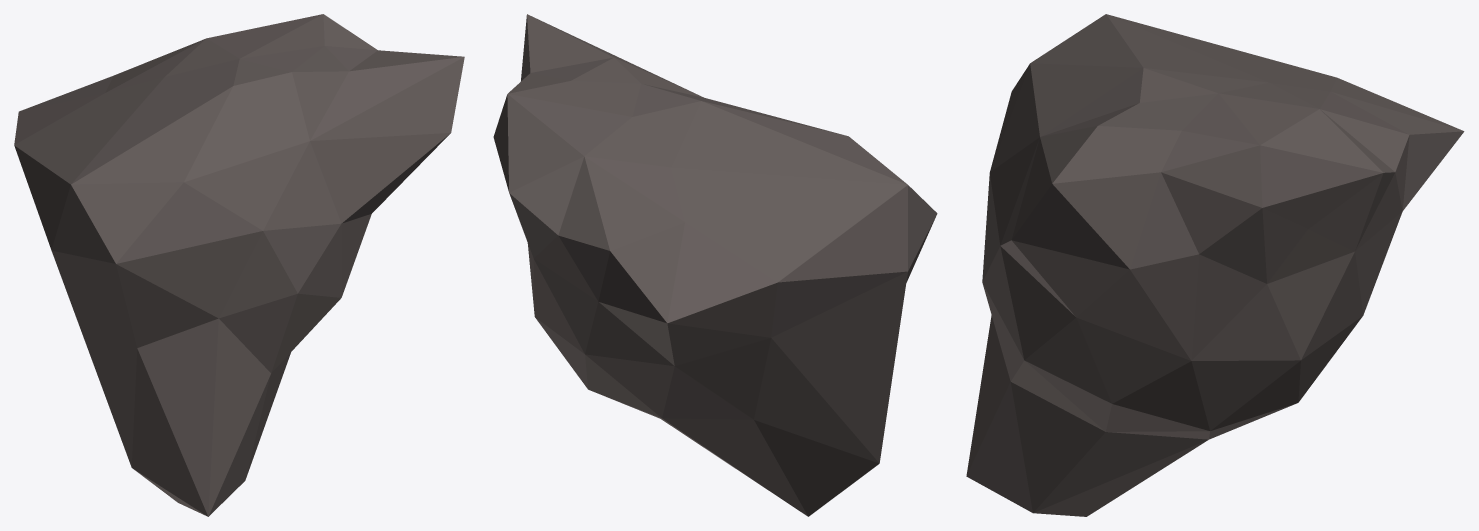
The model's file is Rock 7.fbx.
3 views of the same model, side by side, from view 1: azimuth 30°, elevation 25°; view 2: azimuth 150°, elevation 25°; view 3: azimuth 270°, elevation 25° (orthographic). The views are drawn at different scales.
Parts seen in each view (by area): view 1: Rock 7; view 2: Rock 7; view 3: Rock 7.
Part boxes in pixels (box(x1,y1,x2,y2)): Rock 7: box(14, 14, 464, 516); Rock 7: box(493, 14, 937, 516); Rock 7: box(966, 14, 1464, 516).
Size of the model in its own units: 55.06 by 53.44 by 47.56.
